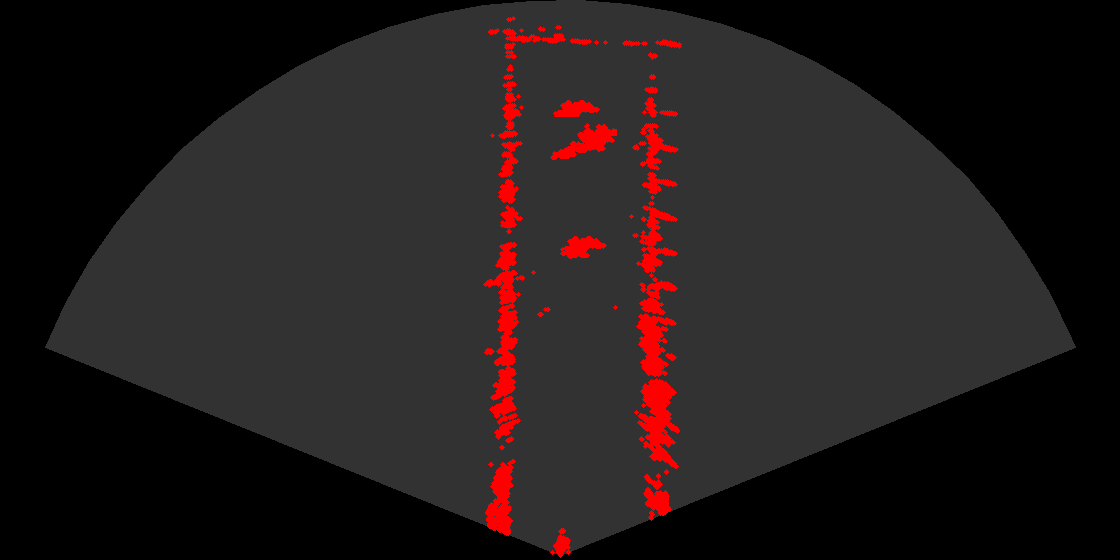AUV: (547, 98, 603, 130), (554, 234, 610, 266)
frogman: (549, 117, 617, 164)
